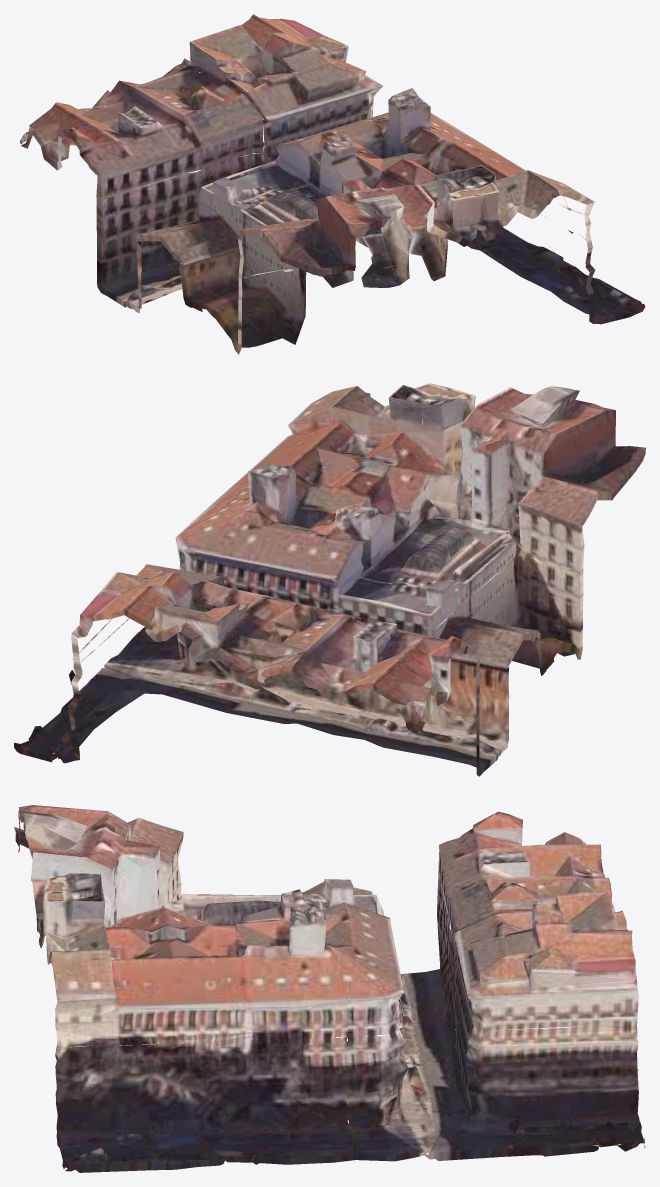
3 renders of one model, top to bottom at view 1: azimuth 30°, elevation 25°; view 2: azimuth 150°, elevation 25°; view 3: azimuth 270°, elevation 25°, orthographic. The views are drawn at different scales.
Visible parts, largest first — view 1: Mesh_0; view 2: Mesh_0; view 3: Mesh_0.
Part boxes in pixels (box(x1,y1,x2,y2)): Mesh_0: box(20, 14, 645, 354); Mesh_0: box(14, 383, 645, 776); Mesh_0: box(14, 805, 645, 1172).
Size of the model in its own units: 67.49 by 31.72 by 82.74.
2 materials, 2 textured.
